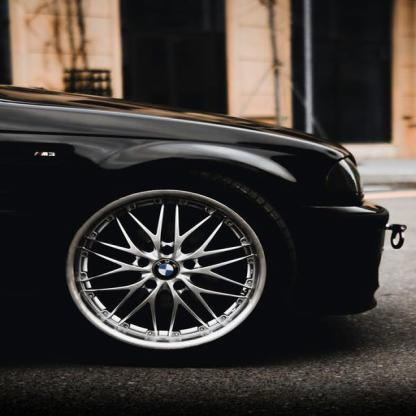Tire: (47, 173, 299, 370)
